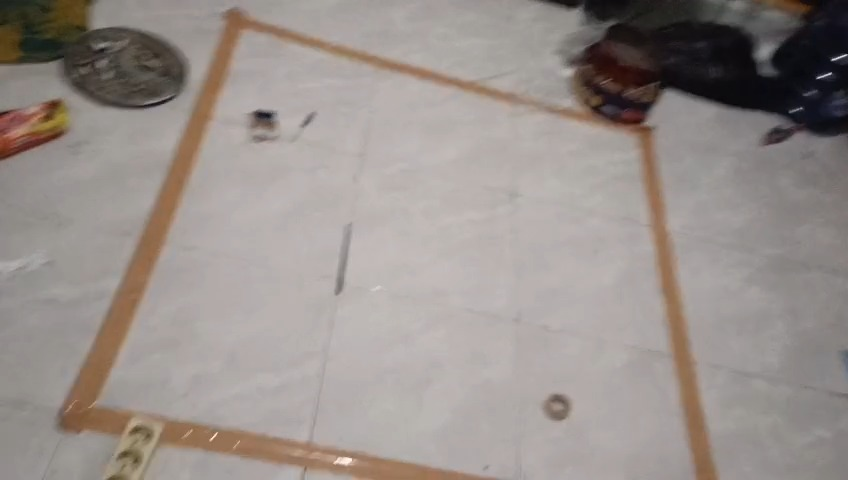floor marking: (59, 8, 718, 479), (155, 415, 481, 478)
